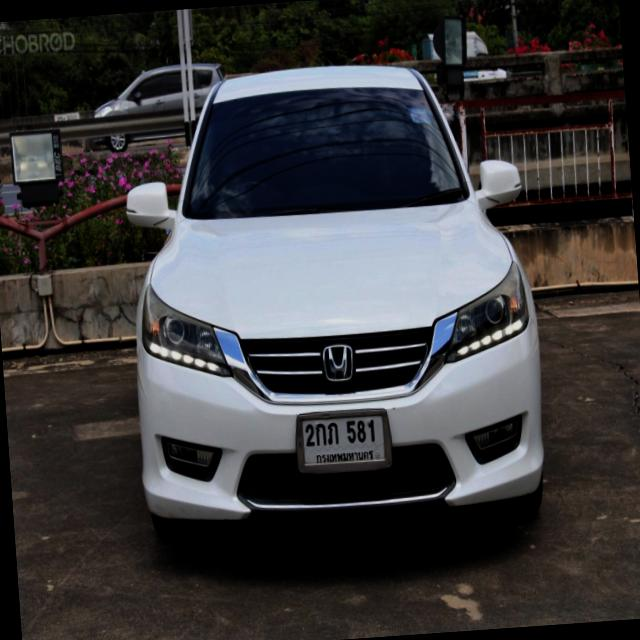license_plate: (290, 400, 396, 475)
